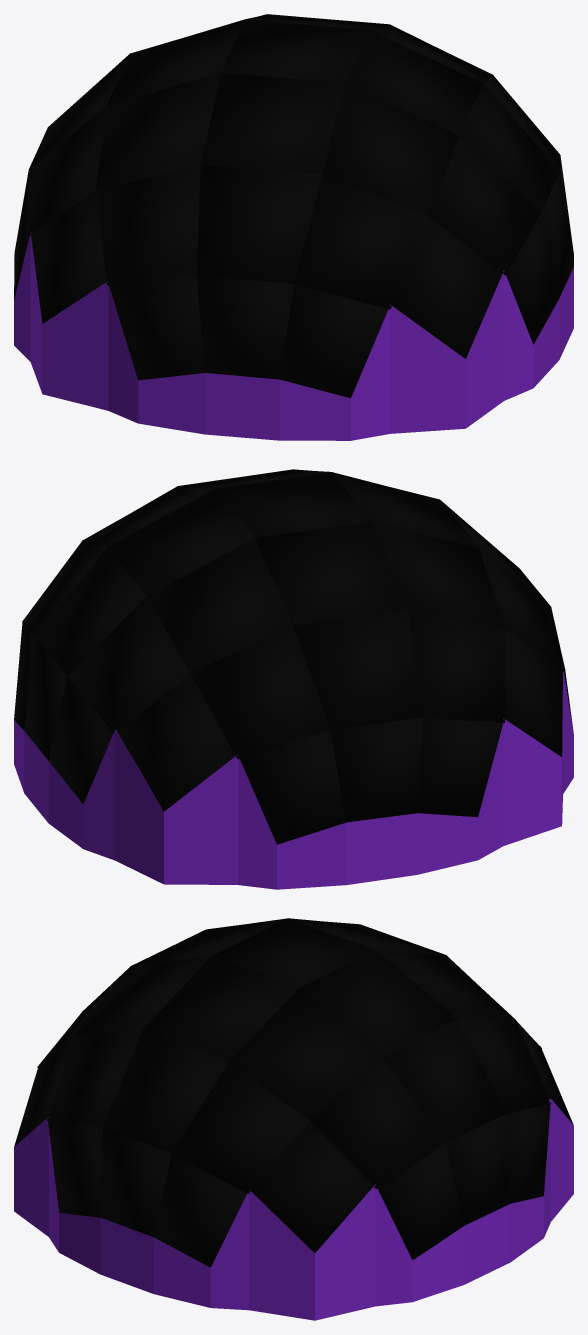
File: rulin.obj
The picture shows the model from 3 angles, top to bottom: view 1: azimuth 30°, elevation 25°; view 2: azimuth 150°, elevation 25°; view 3: azimuth 270°, elevation 25°; orthographic projection. The views are drawn at different scales.
Visible parts, largest first — view 1: object_38, object_28, object_35, object_19, object_29, object_23, object_32, object_6, object_17, object_5, object_18, object_10 (+13 smaller); view 2: object_38, object_30, object_21, object_36, object_31, object_24, object_8, object_22, object_32, object_7, object_20, object_33 (+13 smaller); view 3: object_38, object_26, object_16, object_14, object_27, object_34, object_33, object_2, object_25, object_3, object_37, object_18 (+13 smaller).
Boxes of the visible parts, <box> form: object_38: <box>14,151,573,440</box>; object_28: <box>197,164,322,283</box>; object_35: <box>200,72,344,174</box>; object_19: <box>294,175,429,309</box>; object_29: <box>322,83,458,217</box>; object_23: <box>95,164,200,285</box>; object_32: <box>95,72,221,189</box>; object_6: <box>392,217,502,358</box>; object_17: <box>196,275,294,379</box>; object_5: <box>279,284,388,398</box>; object_18: <box>429,135,541,275</box>; object_10: <box>109,275,204,380</box>; object_38: <box>14,618,573,889</box>; object_30: <box>293,610,422,729</box>; object_21: <box>190,626,330,759</box>; object_36: <box>255,521,407,625</box>; object_31: <box>147,538,292,672</box>; object_24: <box>408,610,504,722</box>; object_8: <box>117,673,235,811</box>; object_22: <box>67,596,190,734</box>; object_32: <box>371,521,504,629</box>; object_7: <box>240,730,346,844</box>; object_20: <box>330,718,423,822</box>; object_33: <box>107,489,254,595</box>; object_38: <box>14,1046,573,1320</box>; object_26: <box>229,987,381,1120</box>; object_16: <box>172,1062,309,1193</box>; object_14: <box>310,1056,445,1188</box>; object_27: <box>102,1030,228,1152</box>; object_34: <box>142,956,298,1061</box>; object_33: <box>300,950,457,1056</box>; object_2: <box>251,1121,373,1252</box>; object_25: <box>382,1020,506,1142</box>; object_3: <box>153,1153,246,1267</box>; object_37: <box>212,918,375,987</box>; object_18: <box>47,1030,141,1127</box>.
Size of the model in its own units: 2.26 by 1.12 by 2.27.
